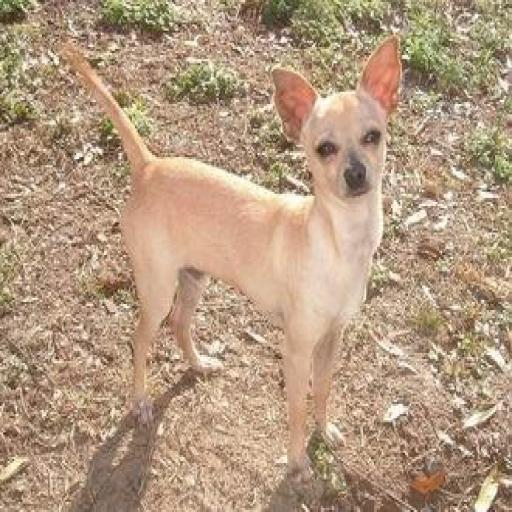dog_face: (268, 39, 396, 198)
